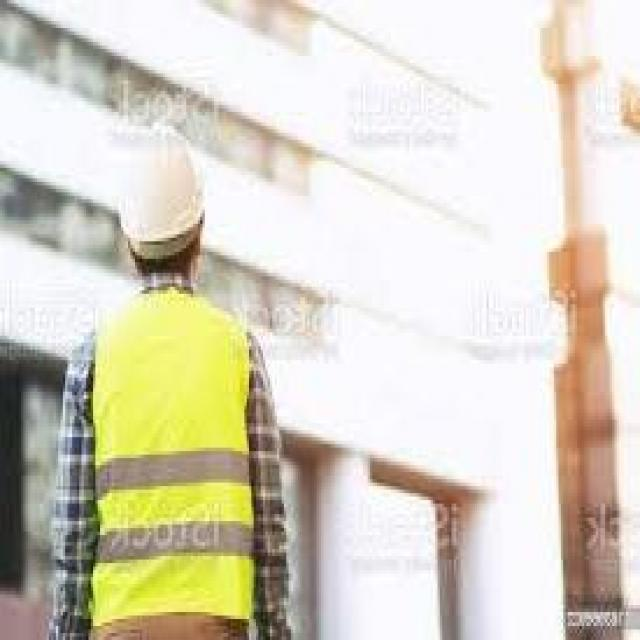Reflective-Jacket: (65, 276, 272, 626)
Safety-Helmet: (97, 119, 225, 273)
